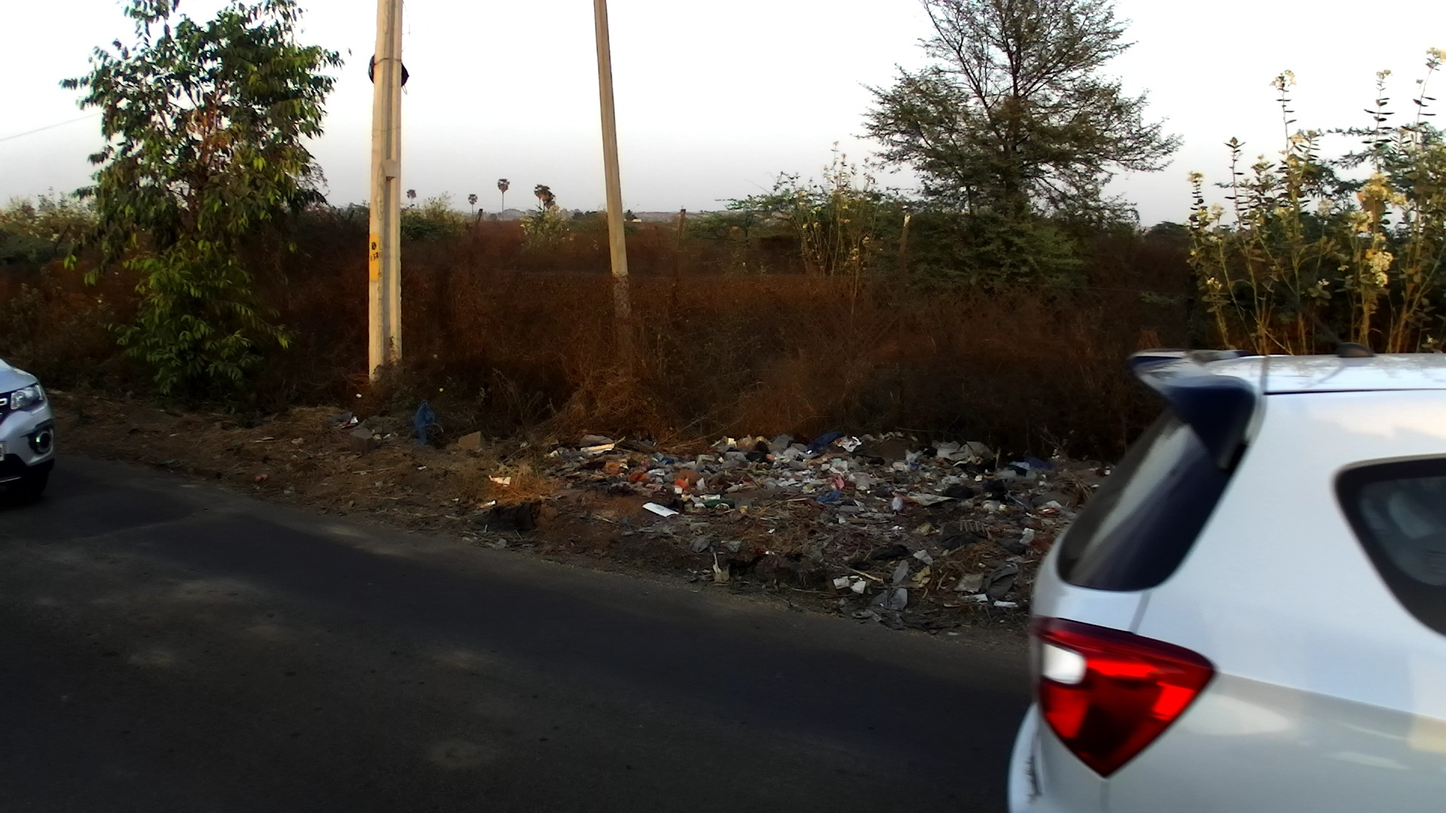car: (1002, 346, 1446, 813), (0, 348, 56, 513)
